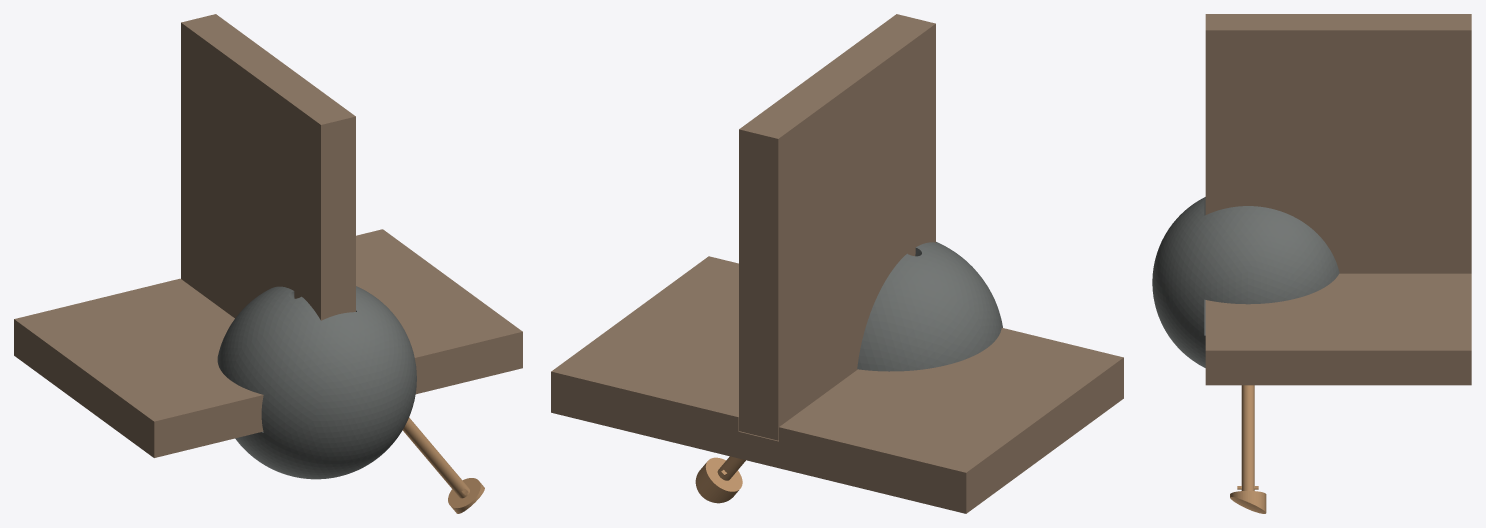
The model's file is key-removed.glb.
The picture shows the model from 3 angles, left to right: view 1: azimuth 30°, elevation 25°; view 2: azimuth 150°, elevation 25°; view 3: azimuth 270°, elevation 25°; orthographic projection. The views are drawn at different scales.
Parts seen in each view (by area): view 1: divider, shelf, body, key; view 2: shelf, divider, body, key; view 3: divider, shelf, body, key.
Boxes of the visible parts, box(x1,y1,x2,y2) form: divider: box(181, 14, 355, 320); shelf: box(14, 229, 522, 457); body: box(217, 286, 416, 479); key: box(402, 417, 484, 513); shelf: box(551, 256, 1123, 513); divider: box(739, 14, 935, 440); body: box(857, 242, 1002, 371); key: box(695, 456, 745, 503); divider: box(1205, 14, 1471, 273); shelf: box(1205, 273, 1471, 385); body: box(1152, 197, 1339, 367); key: box(1230, 385, 1266, 513).
Size of the model in its own units: 0.19 by 0.2194 by 0.15.
